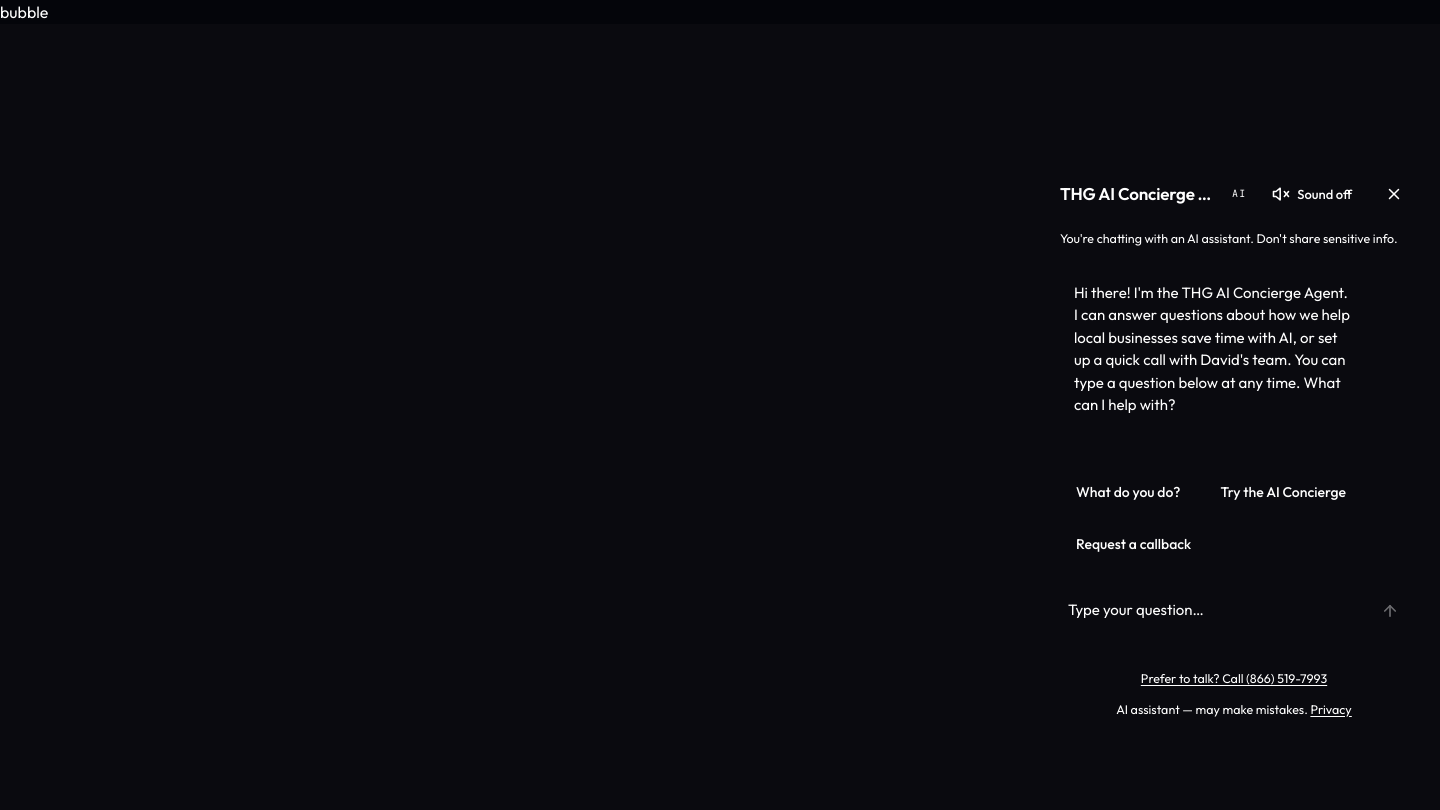
it: ChatPanel voice: the speaker toggle › shows "Sound off" / "Sound on" as text on a touch screen, while the name stays fixed and aria-pressed carries the state
Expected: the text "Sound off" is shown, x1=1297 y1=188 x2=1352 y2=200
Click the button "Sound off": (1313, 194) x1=1261 y1=172 x2=1364 y2=216
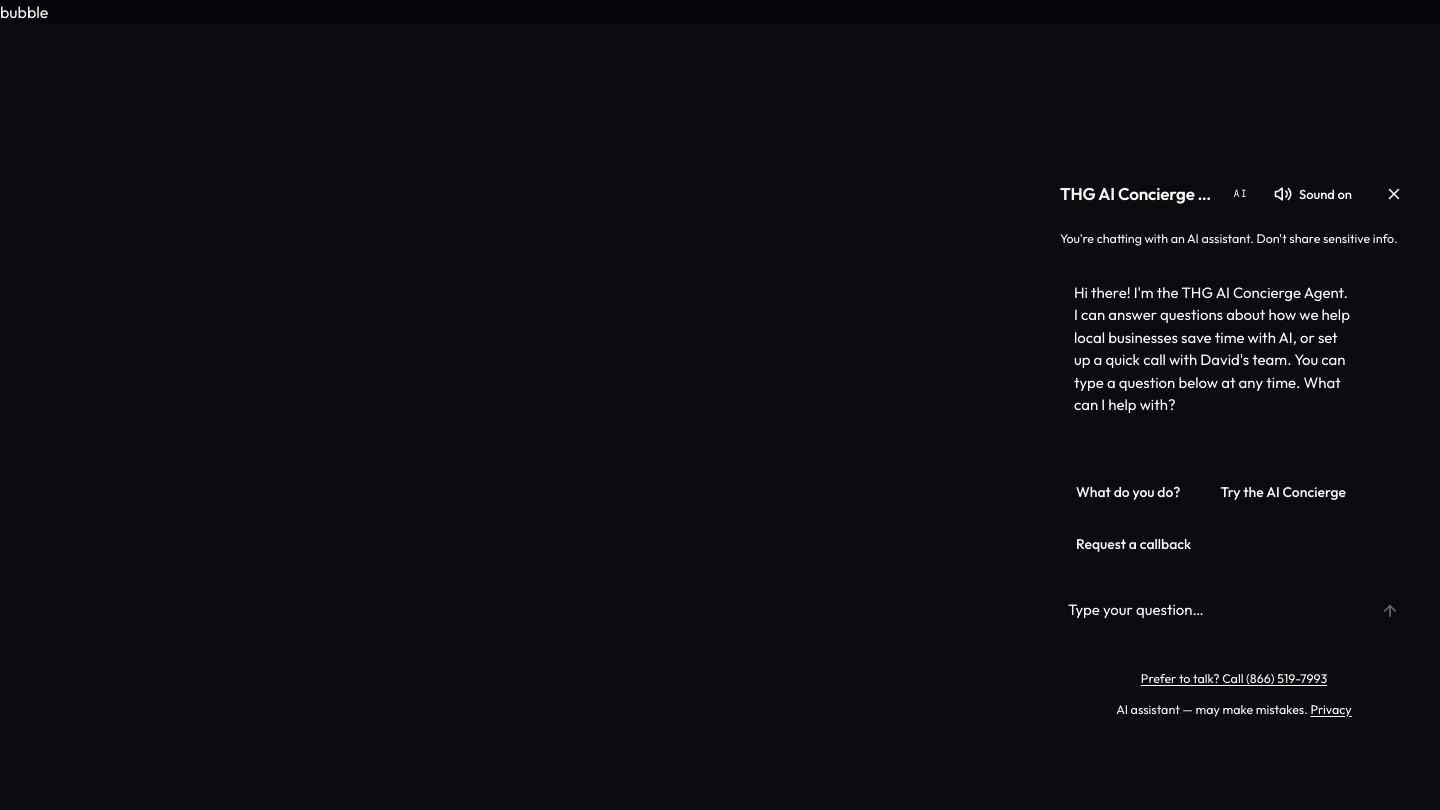
Expected: the button "Sound on" is shown, x1=1263 y1=172 x2=1364 y2=216
